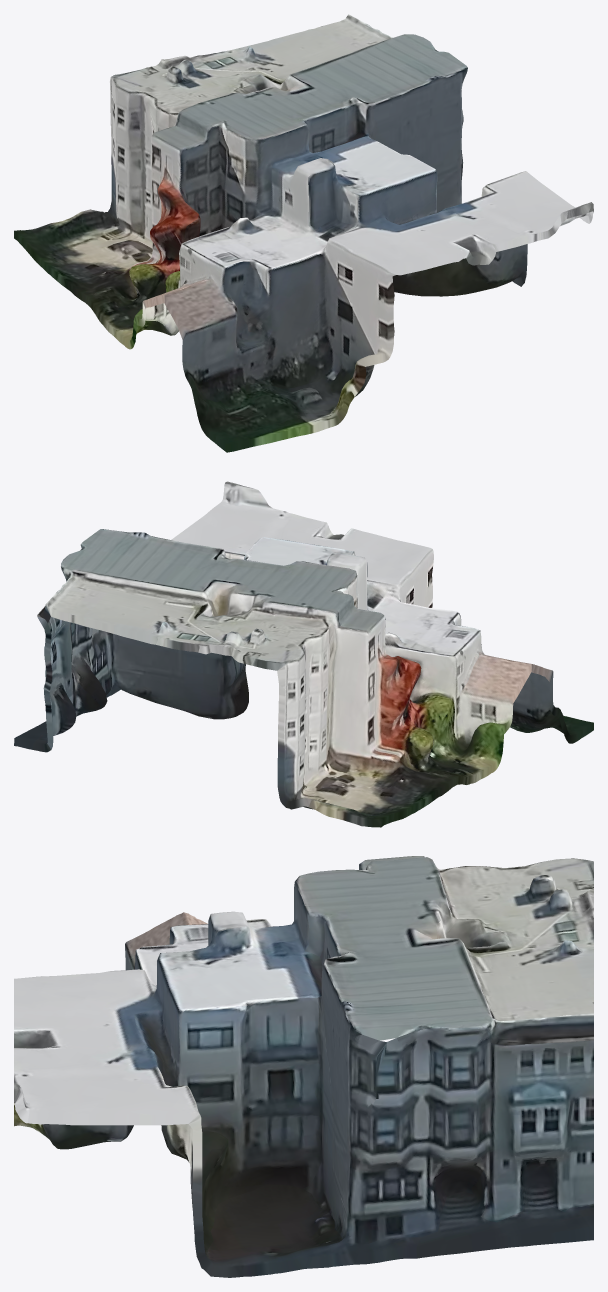
File: z20-167727-405195-h0-yup-uvflip-v3-world.glb
The picture shows the model from 3 angles, top to bottom: view 1: azimuth 30°, elevation 25°; view 2: azimuth 150°, elevation 25°; view 3: azimuth 270°, elevation 25°; orthographic projection. The views are drawn at different scales.
Bounding box in the file's own units: 30.2 × 16.48 × 30.32.
1 material, 1 textured.
